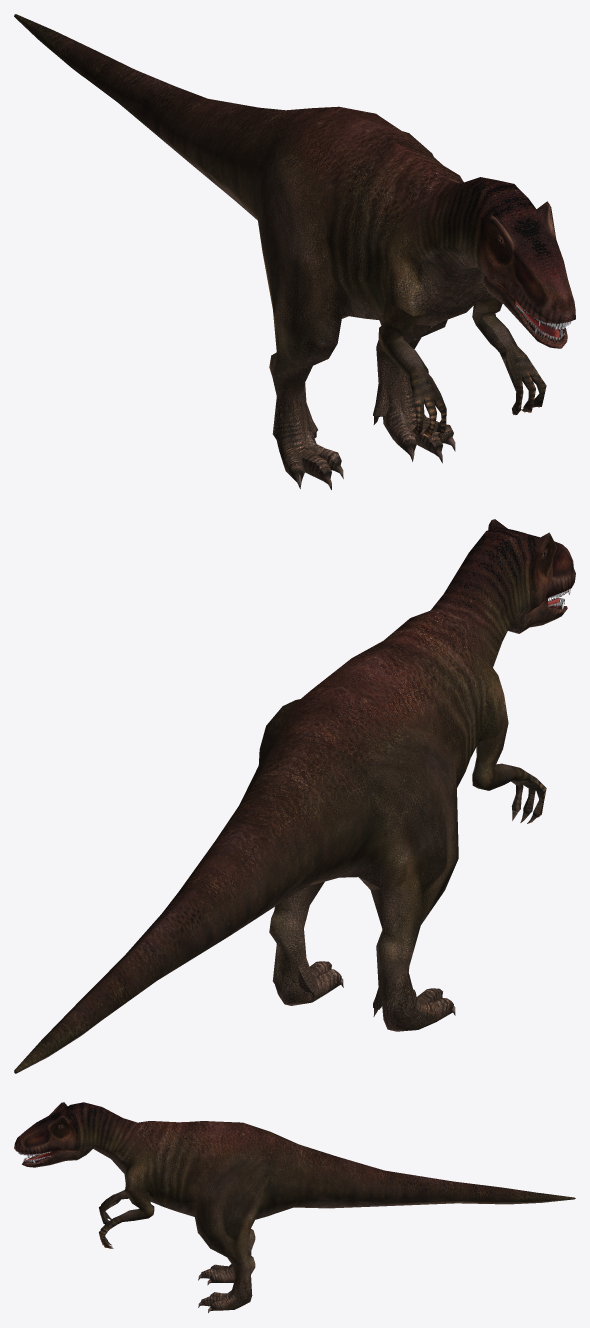
File: Allosaurus.glb
The picture shows the model from 3 angles, top to bottom: view 1: azimuth 30°, elevation 25°; view 2: azimuth 150°, elevation 25°; view 3: azimuth 270°, elevation 25°; orthographic projection. The views are drawn at different scales.
Parts seen in each view (by area): view 1: Allosaurus; view 2: Allosaurus; view 3: Allosaurus.
Boxes of the visible parts, bbox=[...] form: Allosaurus: bbox=[14, 14, 575, 489]; Allosaurus: bbox=[14, 519, 575, 1073]; Allosaurus: bbox=[14, 1102, 575, 1312].
Size of the model in its own units: 0.1601 by 0.3332 by 0.8902.
Materials: 1 (1 with a texture image).
